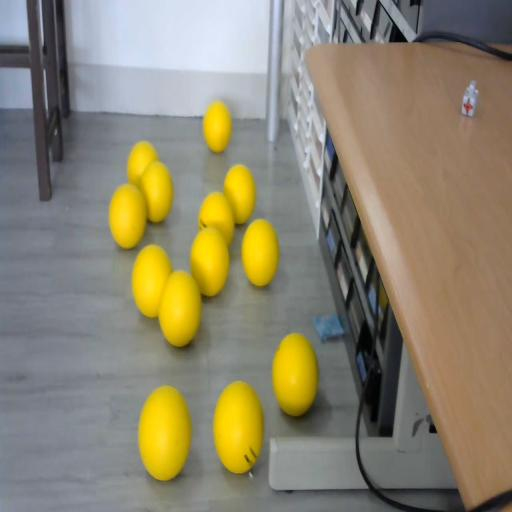FUEL: (138, 385, 192, 480), (212, 379, 264, 473), (271, 330, 319, 416), (157, 269, 202, 348), (190, 225, 230, 296), (240, 217, 280, 286), (109, 184, 147, 248), (140, 159, 174, 223), (224, 164, 256, 224), (202, 100, 232, 153)
